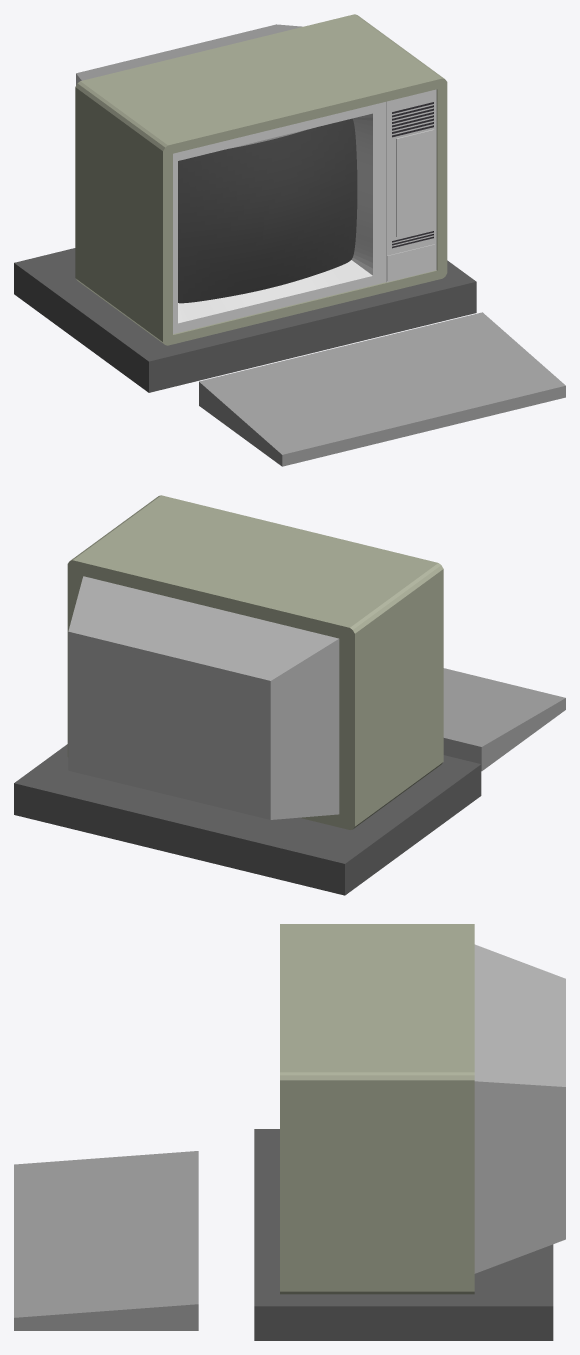
Rendered from Computer2.fbx.
3 views of the same model, one above another, from view 1: azimuth 30°, elevation 25°; view 2: azimuth 150°, elevation 25°; view 3: azimuth 270°, elevation 25° (orthographic). The views are drawn at different scales.
Visible parts, largest first — view 1: Case, Keyboard, Screen, Stand, Screen Holder, Panel, Door, Back, PanelComponent; view 2: Back, Case, Stand, Keyboard; view 3: Case, Keyboard, Back, Stand.
Boxes of the visible parts, x1,y1,x2,y2 form: Case: (75, 14, 447, 345); Keyboard: (199, 312, 565, 466); Screen: (178, 118, 357, 303); Stand: (14, 248, 476, 392); Screen Holder: (173, 102, 385, 333); Panel: (386, 89, 436, 282); Door: (396, 129, 434, 236); Back: (76, 24, 302, 85); PanelComponent: (387, 244, 435, 280); Back: (68, 576, 339, 819); Case: (67, 495, 443, 829); Stand: (14, 744, 481, 895); Keyboard: (443, 668, 565, 771); Case: (280, 924, 474, 1294); Keyboard: (14, 1151, 198, 1330); Back: (474, 944, 565, 1273); Stand: (254, 1129, 553, 1340).
Bounding box in the file's own units: 478 × 323 × 630.
